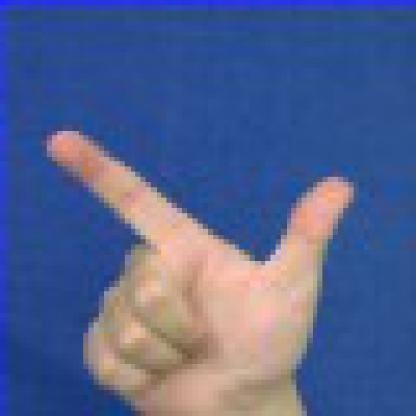seven: (30, 97, 369, 416)
